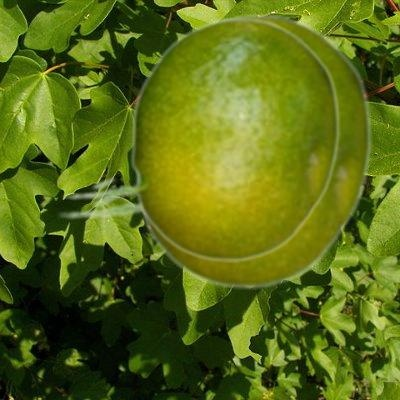calamansi: (57, 12, 371, 288), (61, 16, 339, 261)
